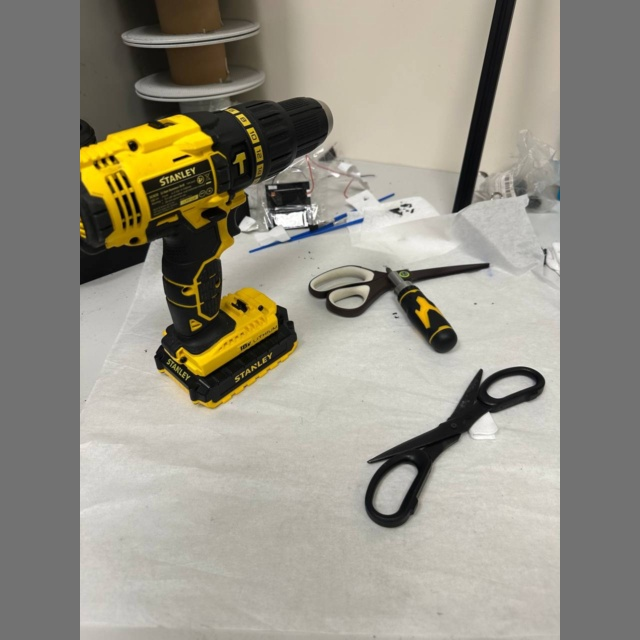drill: (80, 97, 333, 406)
scissor: (365, 367, 545, 528), (308, 263, 489, 316)
screwdriver: (387, 268, 457, 353)
